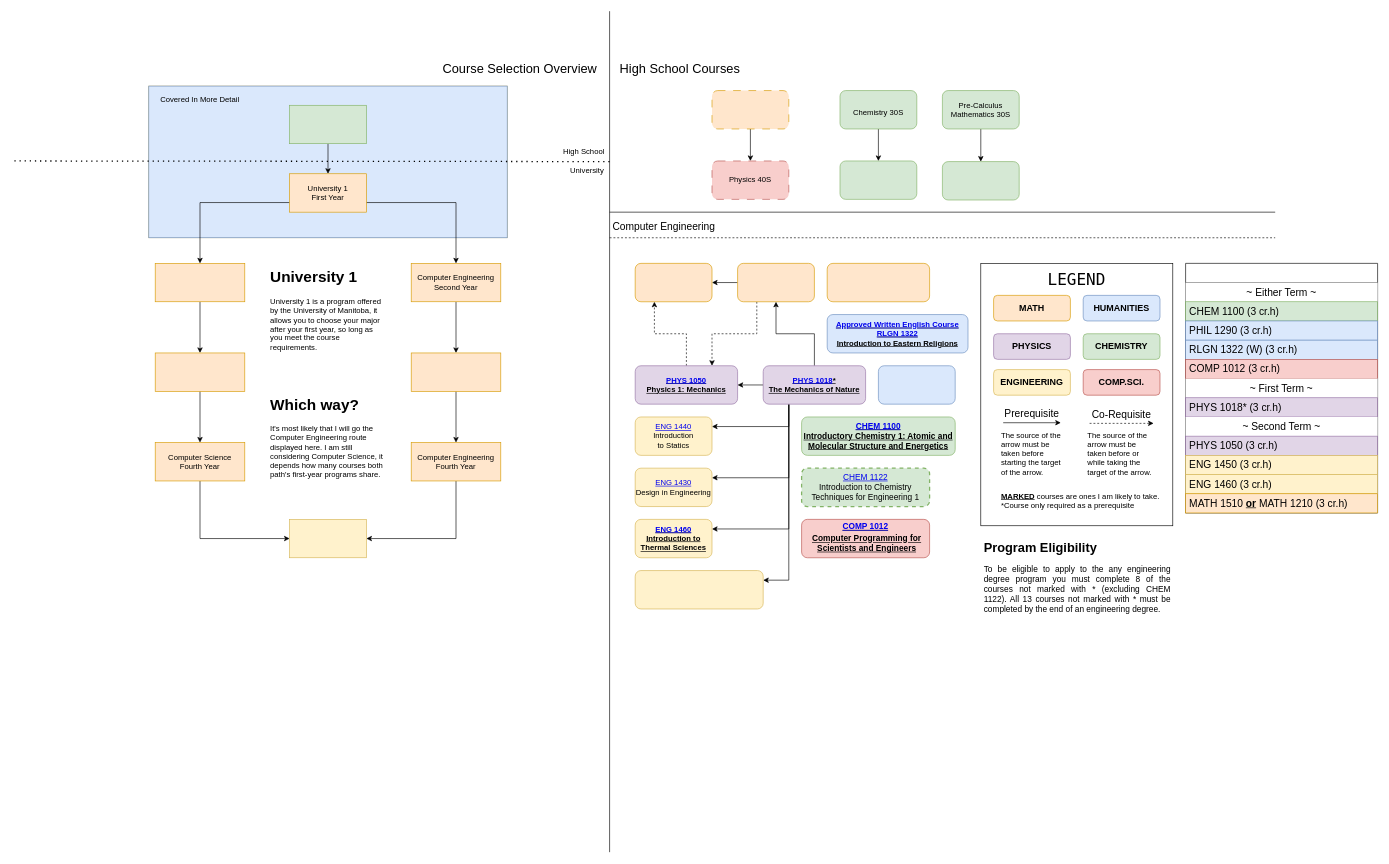
This 1389x864 diagram has some shape labels left out. The box of each missing label's shape, as (x1, y1, x2, y2) in pixels:
Bachelors Degree: (289, 519, 366, 558)
Chemistry 40S: (839, 160, 917, 199)
Computer Engineering Third Year: (411, 352, 501, 391)
Computer Science Second Year: (155, 263, 245, 302)
Computer Science Third Year: (155, 352, 245, 391)
ENG 1450 Introduction to Electrical and Computer Engineering: (635, 570, 763, 609)
First Year Courses (27/30 cr.hr): (1185, 263, 1378, 513)
Grade 12: (289, 105, 366, 144)
MATH 1210 Techniques of Classical and Linear Algebra: (827, 263, 930, 302)
MATH 1510 Applied Calculus 1: (737, 263, 814, 302)
MATH 1710 Applied Calculus 2: (635, 263, 712, 302)
PHIL 1290 Critical Thinking: (878, 365, 955, 404)
Physics 30S: (711, 90, 789, 129)
Pre-Calculus Mathematics 40S: (942, 161, 1019, 200)
